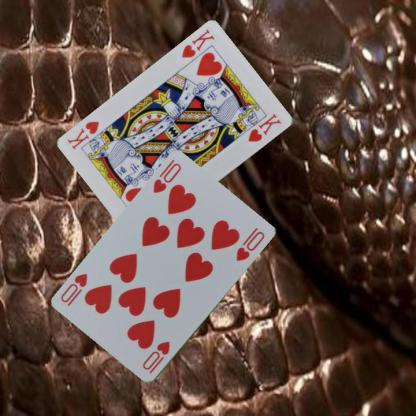10h: (140, 338, 172, 376), (150, 161, 183, 195)
Kh: (179, 27, 216, 60)
